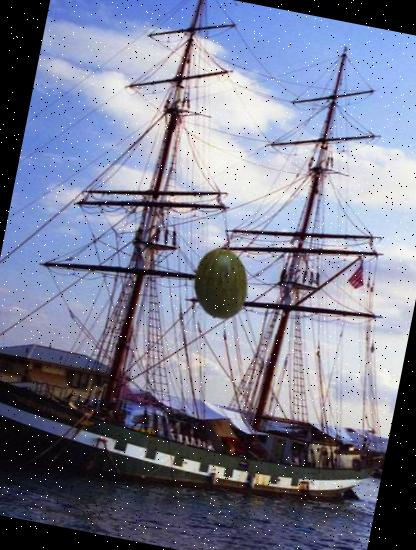Melon: (180, 243, 262, 325)
